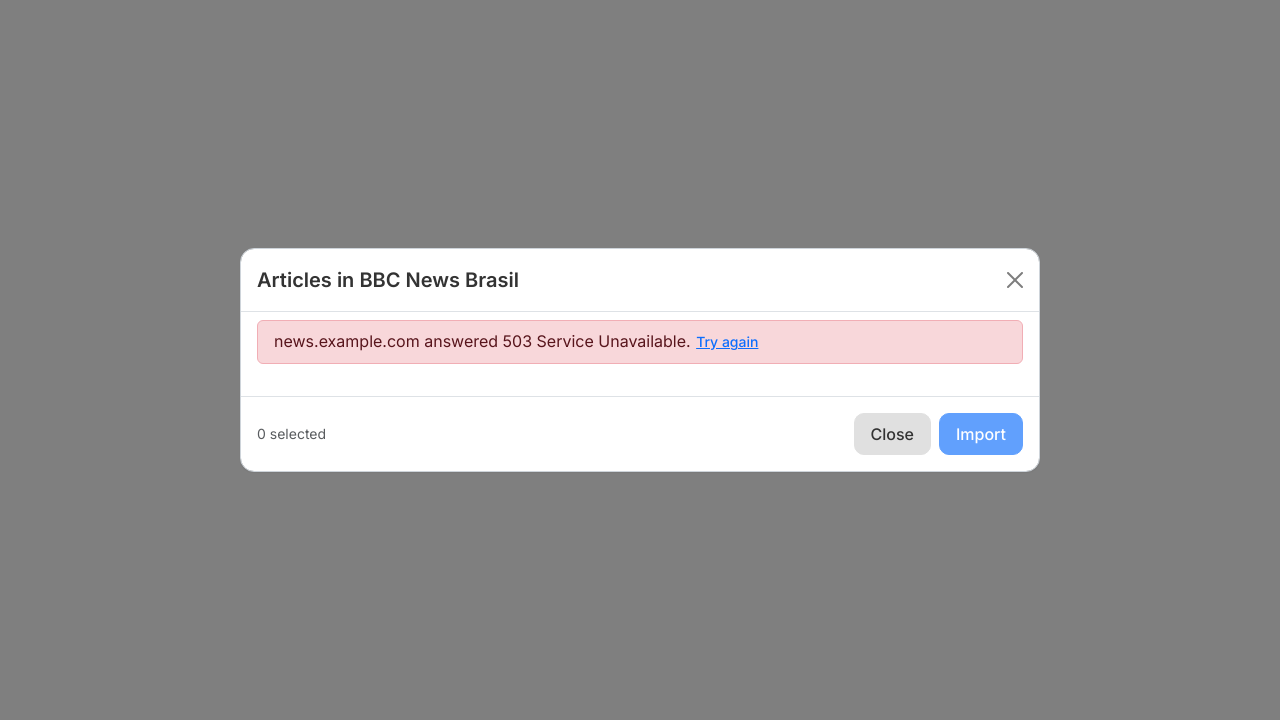
Test: NewsFeedBrowser › a feed that can't be loaded can be tried again
Expected: the text "news.example.com answered 503 Service Unavailable. Try again" is shown, [257,320,1023,364]
Click the button "Try again".
click(727, 342)  # box [695,330,759,353]
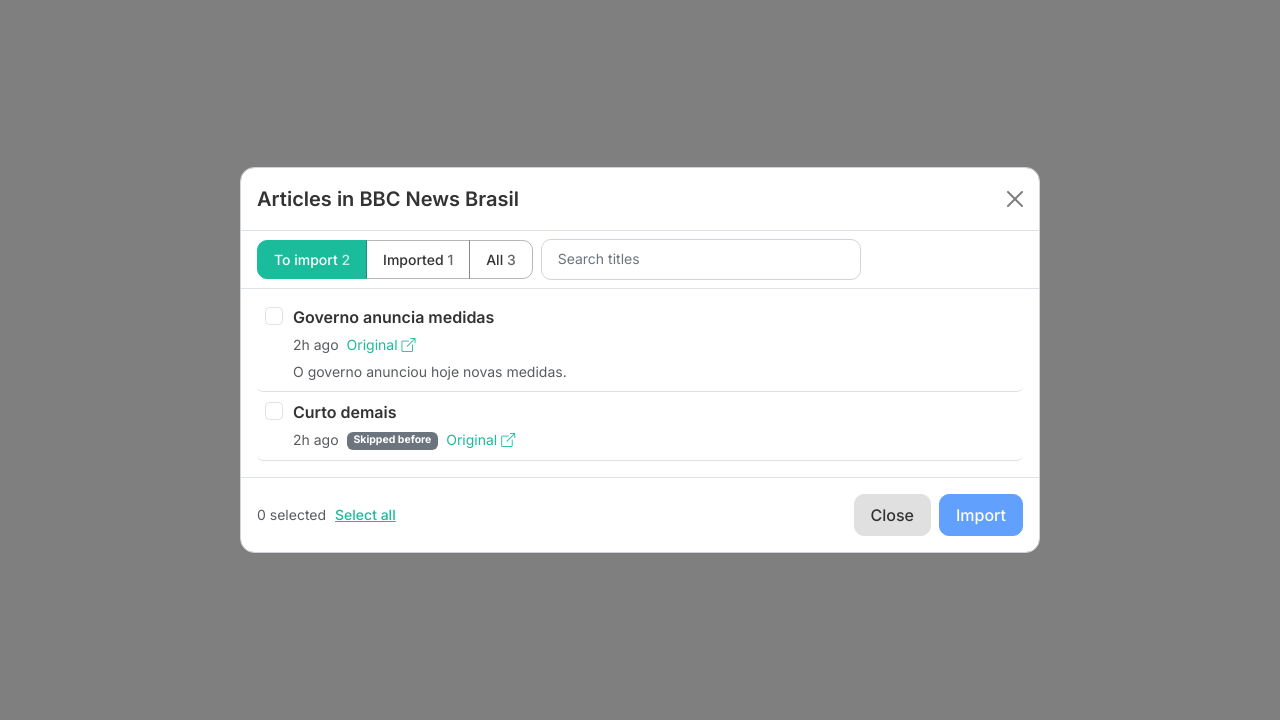
Expected: the text "Governo anuncia medidas" is shown, [293,306,494,326]
Expected: the text "answered 503" is gone
